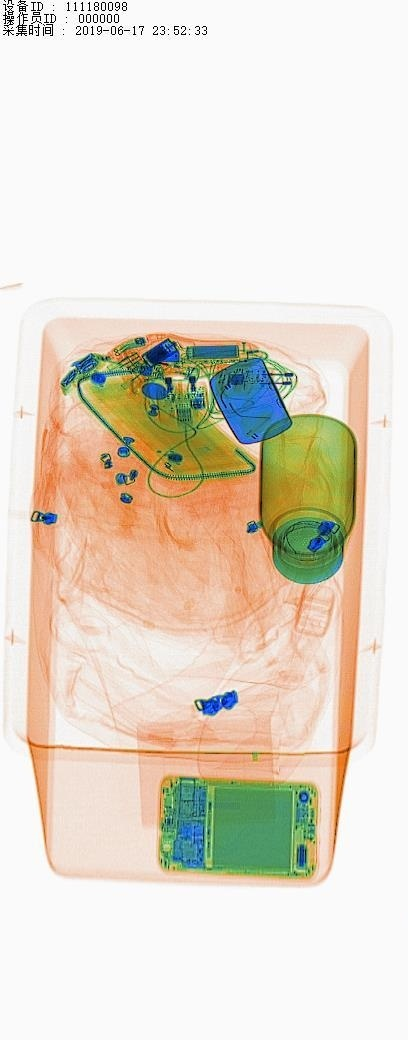NonmetallicFire: (127, 341, 217, 395)
